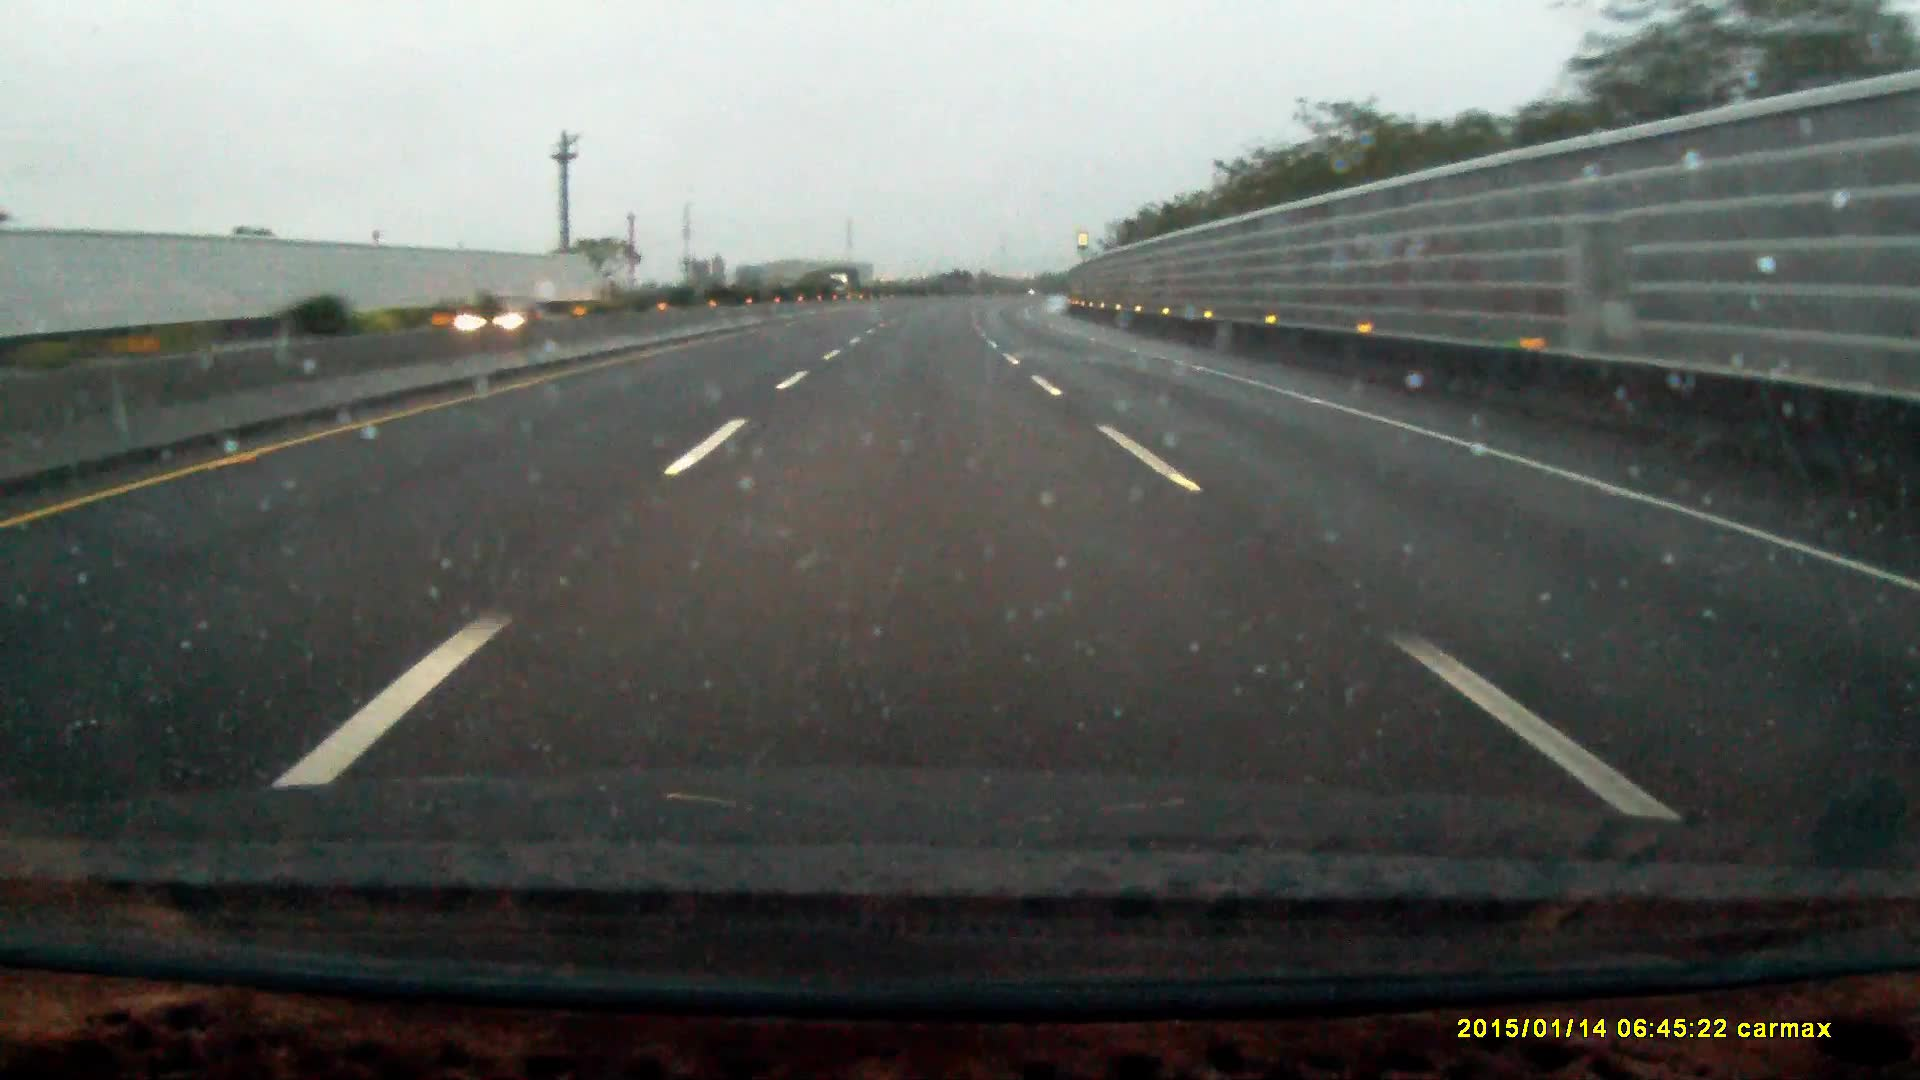vehicle: (452, 295, 562, 349), (827, 266, 861, 305)
